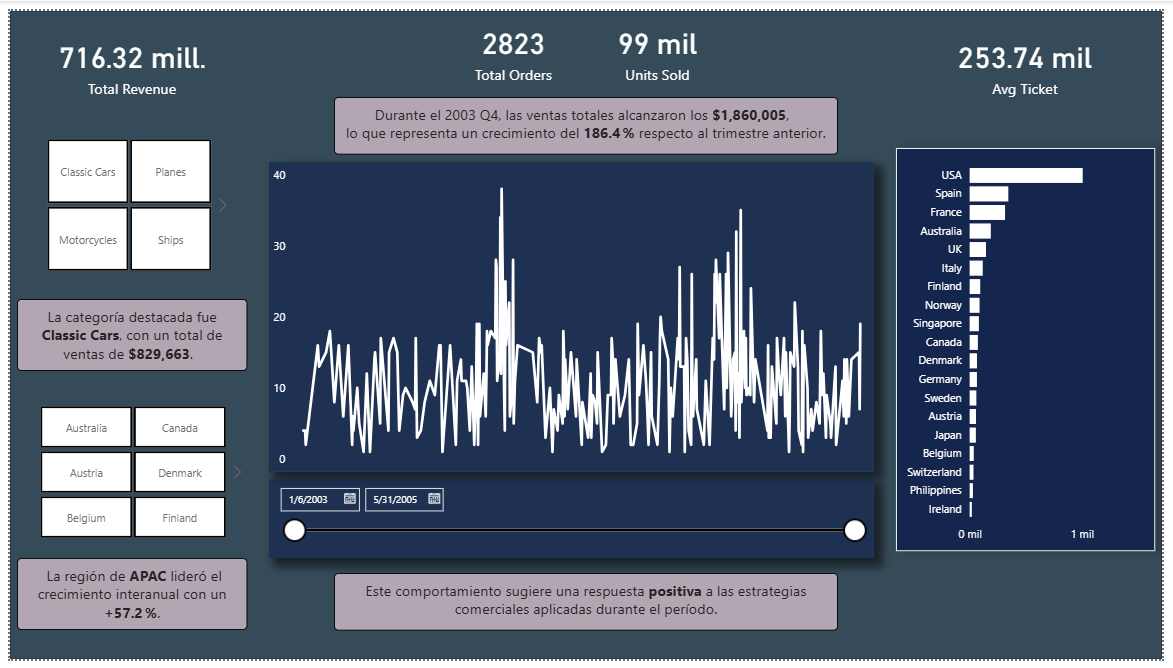

Layout of this report page (visuals, bound fields, positions):
{"tool":"powerbi","page":{"name":"Página 1","canvas":[1280,720],"ordinal":0},"visuals":[{"type":"card","fields":{"Values":["Calendar.Total Revenue"]},"box":[136,0,176,88],"z":0},{"type":"card","fields":{"Values":["Calendar.Total Orders"]},"box":[448,0,128,88],"z":1000},{"type":"card","fields":{"Values":["Calendar.Units Sold"]},"box":[672,0,128,88],"z":2000},{"type":"card","fields":{"Values":["Calendar.Avg Ticket"]},"box":[968,0,168,88],"z":3000},{"type":"lineChart","fields":{"Y":["CountNonNull(sales_data_clean.Order Date)"],"Category":["Calendar.Date.Variation.Date Hierarchy.Year","Calendar.Date.Variation.Date Hierarchy.Quarter","Calendar.Date.Variation.Date Hierarchy.Month","Calendar.Date.Variation.Date Hierarchy.Day"]},"box":[312,184,656,336],"z":4000},{"type":"slicer","fields":{"Values":["Calendar.Date"]},"box":[312,520,656,88],"z":5000},{"type":"slicer","fields":{"Values":["sales_data_clean.country"]},"box":[8,360,256,160],"z":6000},{"type":"slicer","fields":{"Values":["sales_data_clean.productline"]},"box":[8,104,256,160],"z":7000},{"type":"clusteredBarChart","fields":{"Y":["CountNonNull(sales_data_clean.productline)"],"Category":["sales_data_clean.country"]},"box":[968,160,312,448],"z":8000},{"type":"textbox","box":[8,520,256,104],"z":8001},{"type":"textbox","box":[312,96,656,64],"z":8002},{"type":"textbox","box":[8,264,256,96],"z":8003},{"type":"textbox","box":[312,608,656,64],"z":8004}]}

Visuals, with their boxes in screenshot pixels (x1, y1, x2, y2), scaled from the page's 1280x720 canvas onto the 1173x668 screenshot:
card - Calendar.Total Revenue: box=[125, 0, 286, 82]
card - Calendar.Total Orders: box=[411, 0, 528, 82]
card - Calendar.Units Sold: box=[616, 0, 733, 82]
card - Calendar.Avg Ticket: box=[887, 0, 1041, 82]
lineChart - CountNonNull(sales_data_clean.Order Date) x Calendar.Date.Variation.Date Hierarchy.Year: box=[286, 171, 887, 482]
slicer - Calendar.Date: box=[286, 482, 887, 564]
slicer - sales_data_clean.country: box=[7, 334, 242, 482]
slicer - sales_data_clean.productline: box=[7, 96, 242, 245]
clusteredBarChart - CountNonNull(sales_data_clean.productline) x sales_data_clean.country: box=[887, 148, 1172, 564]
textbox: box=[7, 482, 242, 579]
textbox: box=[286, 89, 887, 148]
textbox: box=[7, 245, 242, 334]
textbox: box=[286, 564, 887, 623]
